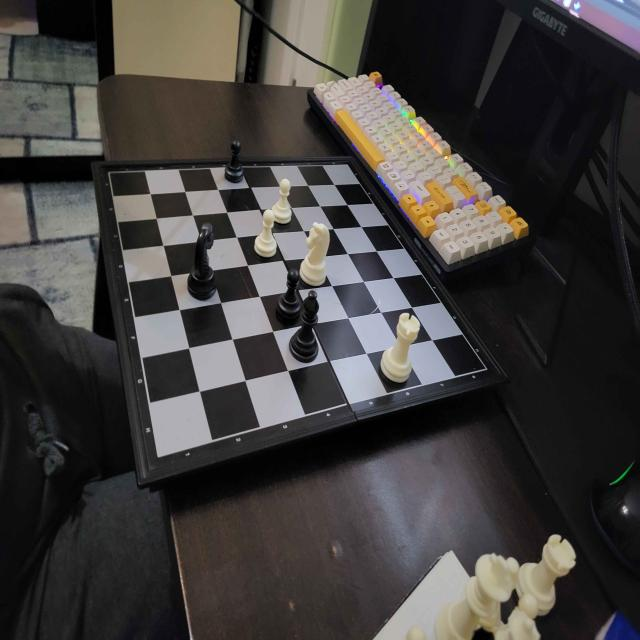black-knight: (184, 220, 220, 309)
black-pawn: (272, 266, 304, 326), (222, 138, 248, 186)
chess-board: (94, 157, 496, 485)
white-knight: (300, 220, 332, 288)
white-pawn: (252, 208, 280, 262), (271, 177, 294, 227)
white-rook: (517, 532, 580, 611), (378, 311, 423, 391)
